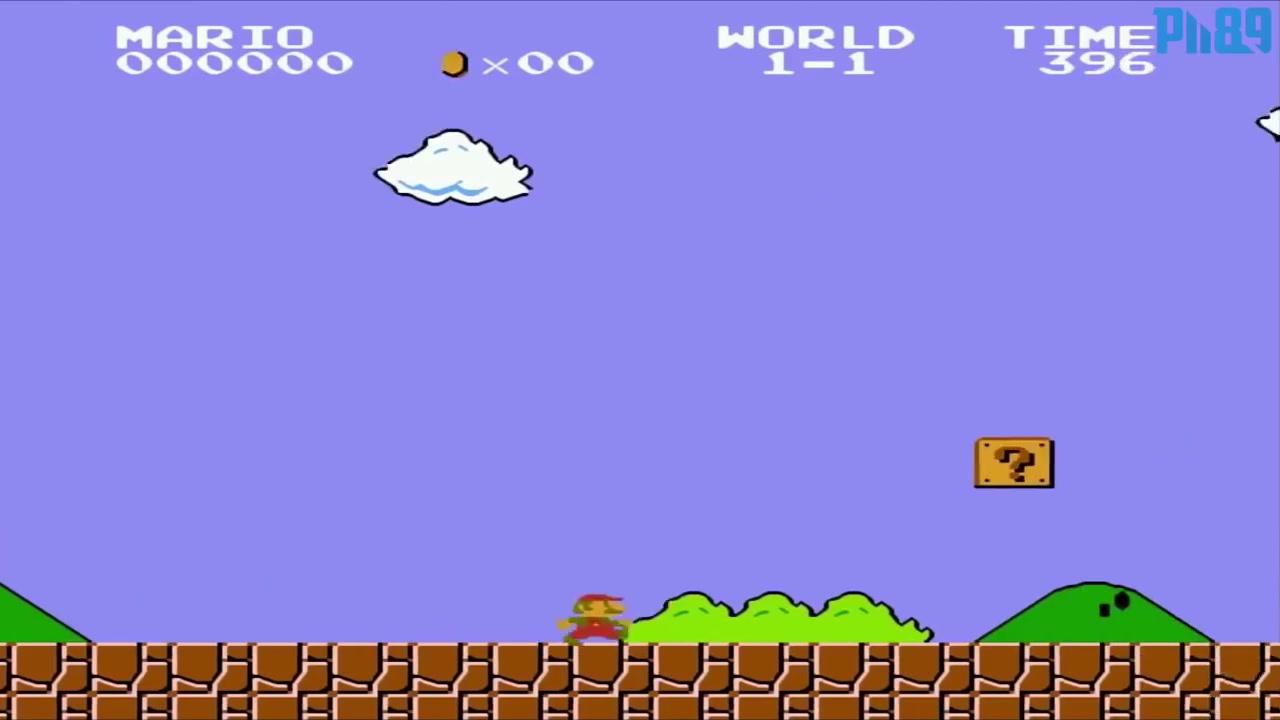mario: (543, 583, 634, 650)
